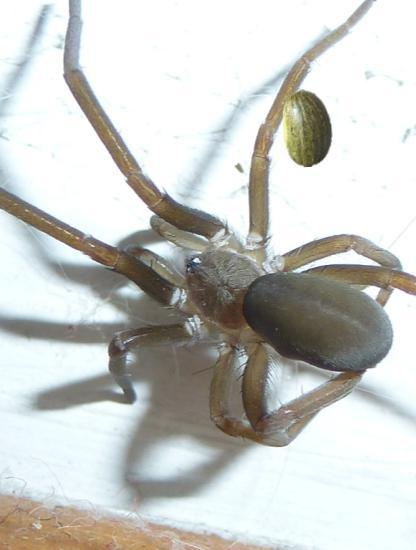Melon: (268, 89, 346, 167)
